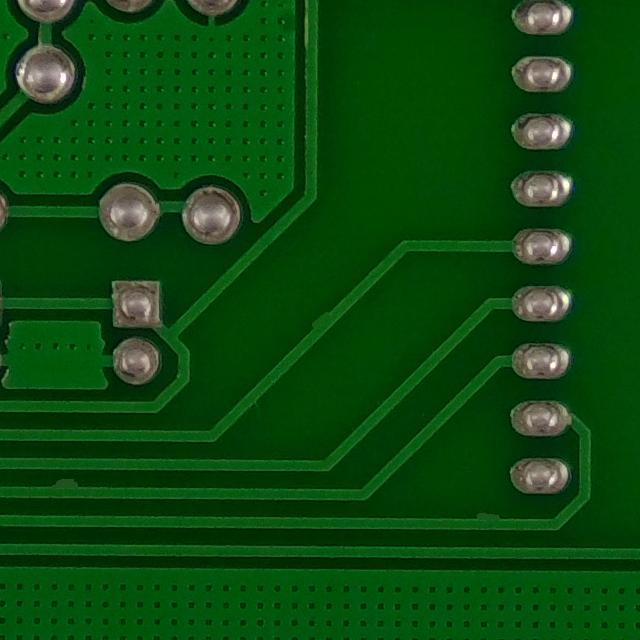spur: (292, 293, 348, 348)
